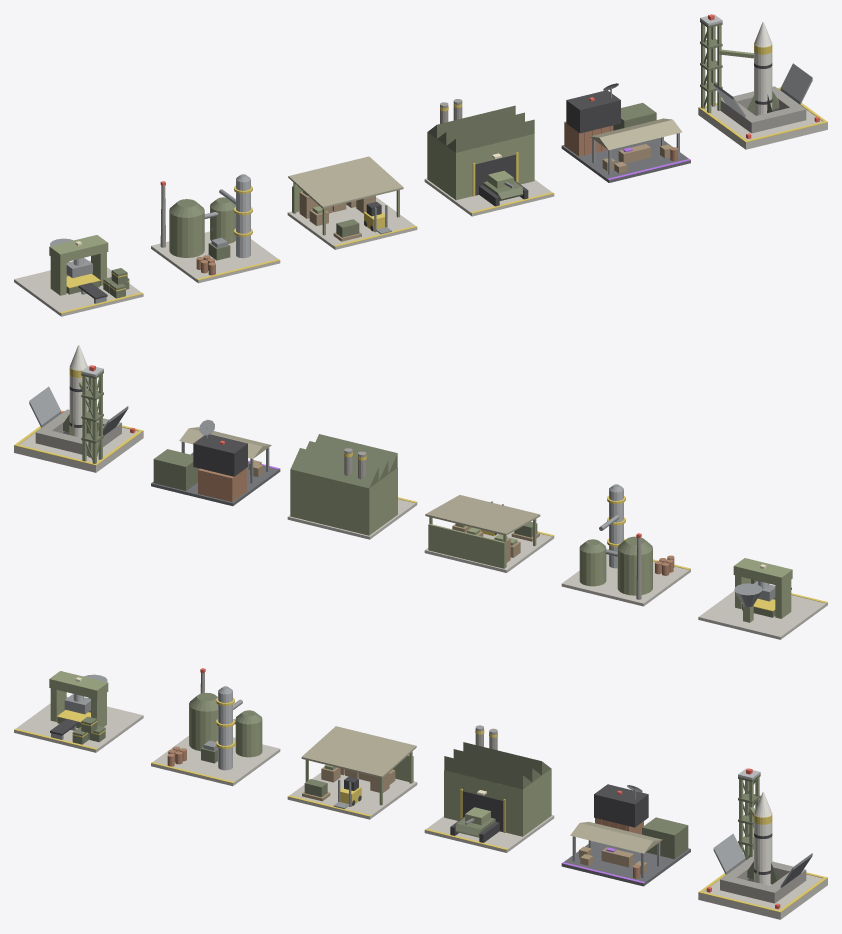
The model's file is makers.fbx.
3 renders of one model, top to bottom at view 1: azimuth 30°, elevation 25°; view 2: azimuth 150°, elevation 25°; view 3: azimuth 330°, elevation 25°, orthographic.
Parts seen in each view (by area): view 1: TankFactory_Olive, SupplyDepot_Canvas, TankFactory_DarkOlive, FuelRefinery_Olive, FuelRefinery_Concrete, SupplyDepot_Concrete, AmmoPress_Concrete, AmmoPress_Olive, BlackMarket_Asphalt, MissileSilo_Concrete, MissileSilo_DarkConcrete, BlackMarket_Black (+17 smaller); view 2: TankFactory_Olive, TankFactory_DarkOlive, AmmoPress_Concrete, SupplyDepot_Olive, SupplyDepot_Canvas, FuelRefinery_Olive, AmmoPress_Olive, MissileSilo_Concrete, BlackMarket_Black, FuelRefinery_Concrete, BlackMarket_DarkOlive, MissileSilo_DarkConcrete (+13 smaller); view 3: TankFactory_Olive, SupplyDepot_Canvas, TankFactory_DarkOlive, FuelRefinery_Concrete, SupplyDepot_Concrete, AmmoPress_Concrete, BlackMarket_Asphalt, FuelRefinery_Olive, MissileSilo_Concrete, AmmoPress_Olive, MissileSilo_DarkConcrete, BlackMarket_Black (+18 smaller).
Boxes of the visible parts, x1,y1,x2,y2 form: TankFactory_Olive: (427, 132, 534, 200); SupplyDepot_Canvas: (288, 156, 403, 208); TankFactory_DarkOlive: (428, 105, 534, 200); FuelRefinery_Olive: (169, 206, 235, 257); FuelRefinery_Concrete: (151, 231, 280, 283); SupplyDepot_Concrete: (287, 197, 417, 249); AmmoPress_Concrete: (14, 260, 143, 316); AmmoPress_Olive: (49, 235, 108, 295); BlackMarket_Asphalt: (561, 138, 690, 182); MissileSilo_Concrete: (698, 105, 827, 149); MissileSilo_DarkConcrete: (720, 86, 806, 133); BlackMarket_Black: (566, 90, 620, 133); TankFactory_Olive: (290, 467, 397, 535); TankFactory_DarkOlive: (290, 434, 397, 488); AmmoPress_Concrete: (698, 591, 827, 639); SupplyDepot_Olive: (428, 517, 536, 568); SupplyDepot_Canvas: (425, 495, 540, 535); FuelRefinery_Olive: (579, 548, 652, 595); AmmoPress_Olive: (733, 558, 792, 622); MissileSilo_Concrete: (14, 427, 143, 472); BlackMarket_Black: (193, 434, 247, 476); FuelRefinery_Concrete: (561, 554, 690, 606); BlackMarket_DarkOlive: (153, 449, 199, 490); MissileSilo_DarkConcrete: (35, 409, 121, 455); TankFactory_Olive: (444, 769, 551, 836); SupplyDepot_Canvas: (301, 726, 416, 778); TankFactory_DarkOlive: (444, 742, 551, 837); FuelRefinery_Concrete: (151, 736, 280, 786); SupplyDepot_Concrete: (287, 772, 417, 819); AmmoPress_Concrete: (14, 696, 143, 752); BlackMarket_Asphalt: (561, 841, 690, 886); FuelRefinery_Olive: (189, 705, 262, 757); MissileSilo_Concrete: (698, 874, 827, 919); AmmoPress_Olive: (49, 671, 108, 726); MissileSilo_DarkConcrete: (720, 856, 806, 903); BlackMarket_Black: (594, 784, 648, 827).
Size of the model in its own units: 22400 by 2820 by 2400.
